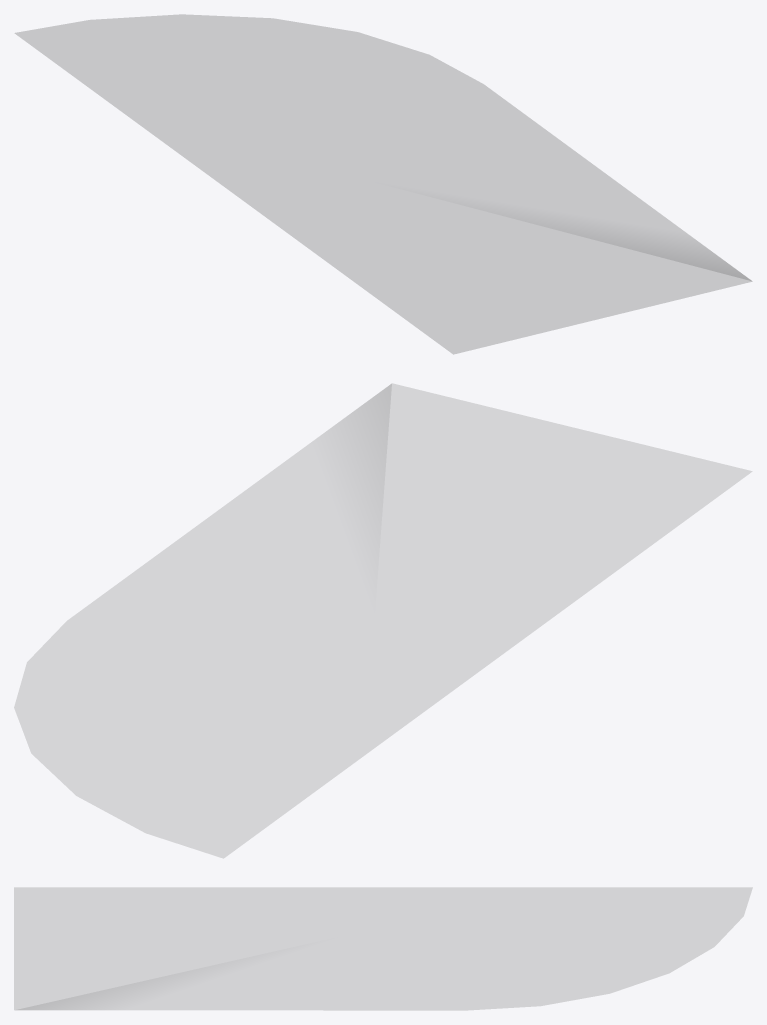
3 views of the same model, one above another, from view 1: azimuth 30°, elevation 25°; view 2: azimuth 150°, elevation 25°; view 3: azimuth 270°, elevation 25° (orthographic). The views are drawn at different scales.
Parts seen in each view (by area): view 1: Joint_0_Object_0; view 2: Joint_0_Object_0; view 3: Joint_0_Object_0.
Boxes of the visible parts, x1,y1,x2,y2 form: Joint_0_Object_0: [15, 14, 752, 354]; Joint_0_Object_0: [14, 383, 751, 858]; Joint_0_Object_0: [14, 887, 752, 1010].
Bounding box in the file's own units: 1257 × 0 × 3190.
Materials: 1 (1 with a texture image).
